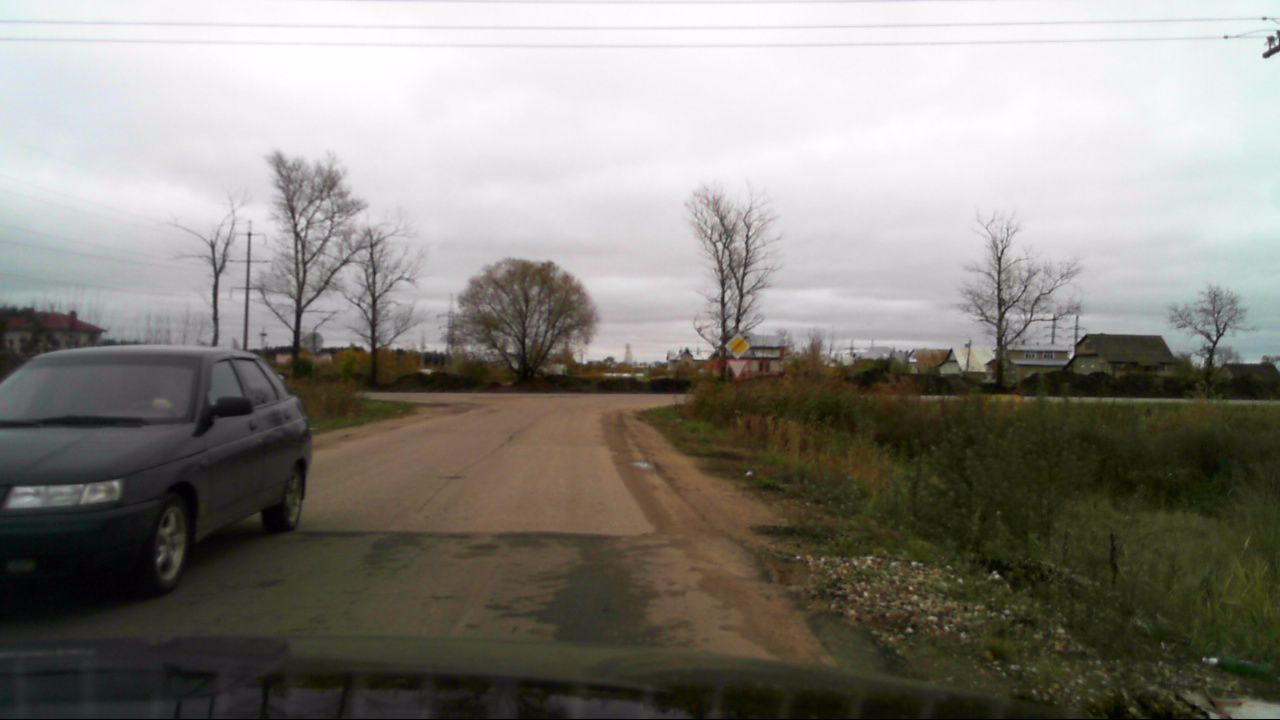main road: (723, 332, 750, 358)
